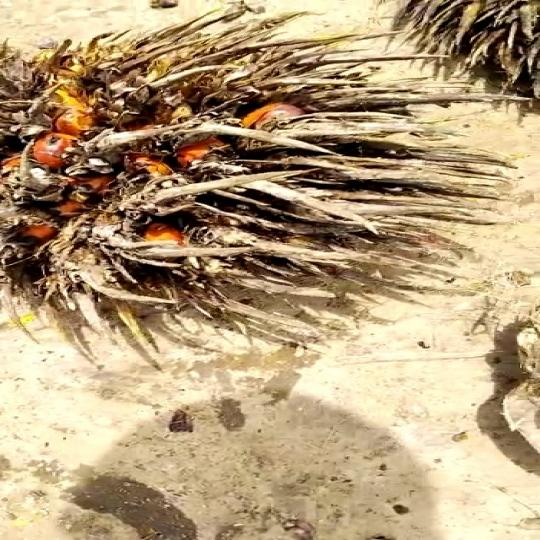terlalu masak: (0, 4, 513, 370)
